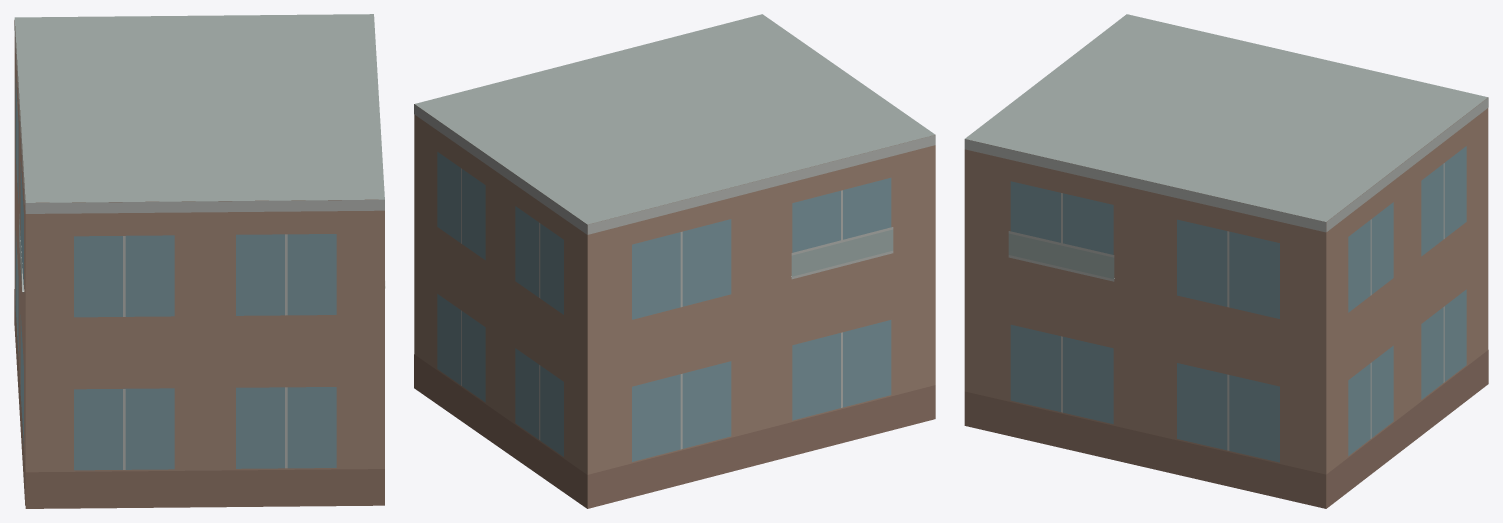
The model's file is survey-upis-32664007.glb.
3 renders of one model, left to right at view 1: azimuth 30°, elevation 25°; view 2: azimuth 150°, elevation 25°; view 3: azimuth 270°, elevation 25°, orthographic. The views are drawn at different scales.
Parts seen in each view (by area): view 1: survey-upis-32664007.tmp; view 2: survey-upis-32664007.tmp; view 3: survey-upis-32664007.tmp.
Boxes of the visible parts, x1,y1,x2,y2 form: survey-upis-32664007.tmp: (14, 14, 385, 508); survey-upis-32664007.tmp: (414, 14, 935, 508); survey-upis-32664007.tmp: (964, 14, 1488, 508).
Bounding box in the file's own units: 10.43 × 6.7 × 11.1.
